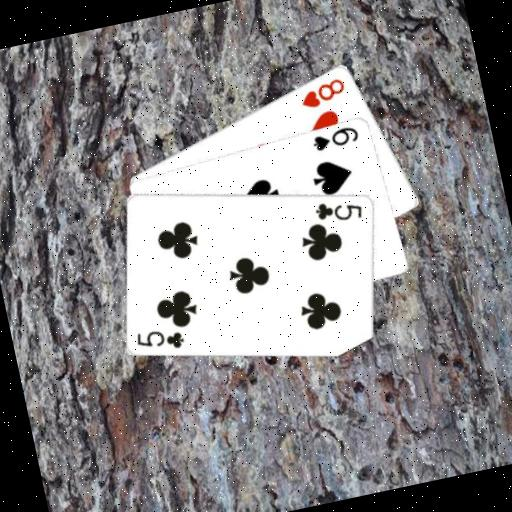5C: (132, 320, 188, 358), (311, 191, 366, 228)
6S: (308, 121, 362, 153)
8H: (294, 73, 349, 112)
